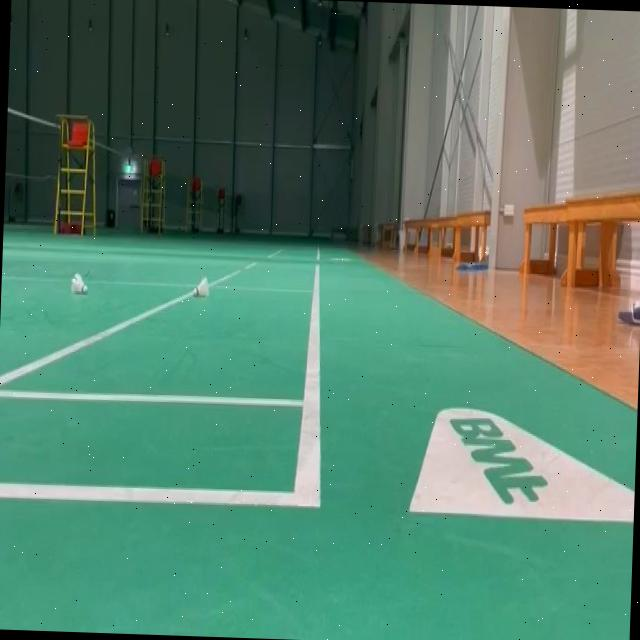Shuttle: (70, 270, 88, 295), (192, 275, 210, 298)
